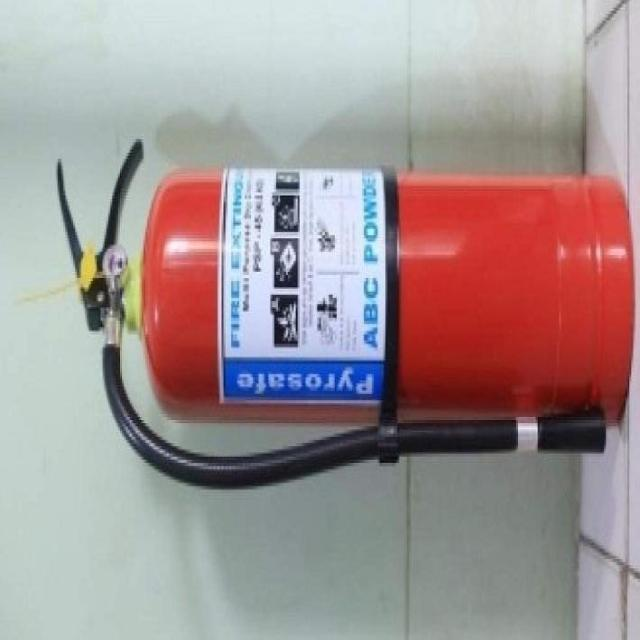fire_extinguisher: (52, 134, 639, 494)
